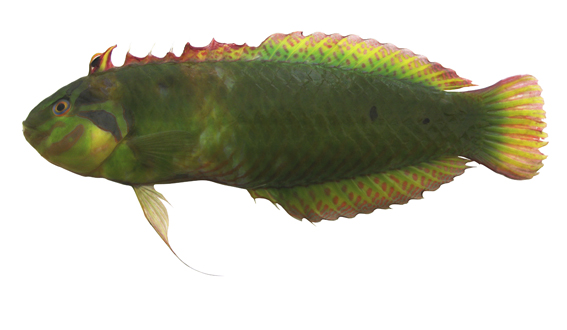fish: (22, 29, 548, 276)
